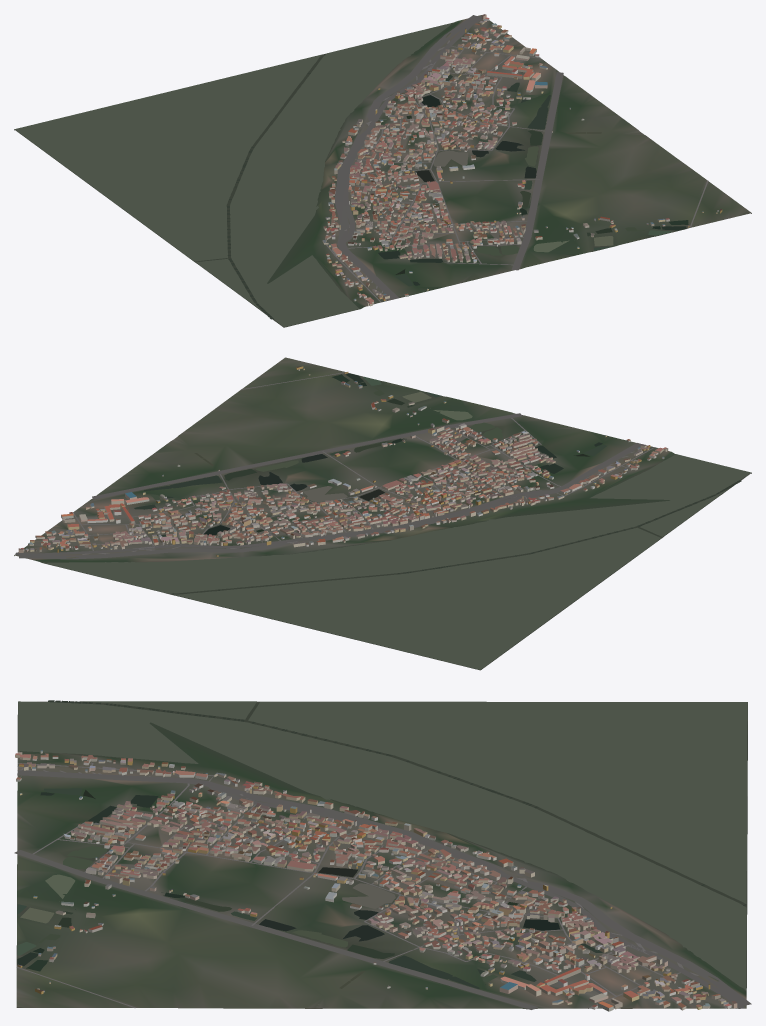
3 renders of one model, top to bottom at view 1: azimuth 30°, elevation 25°; view 2: azimuth 150°, elevation 25°; view 3: azimuth 270°, elevation 25°, orthographic. The views are drawn at different scales.
Parts seen in each view (by area): view 1: water, ground, buildings, roads; view 2: water, ground, buildings, roads; view 3: water, ground, buildings, roads.
Part boxes in pixels (x1,y1,x2,y2): water: (15,22,688,327); ground: (14,15,751,327); buildings: (322,14,722,306); roads: (326,15,708,302); water: (43,373,750,669); ground: (14,357,751,670); buildings: (18,366,668,556); roads: (15,372,654,559); water: (17,700,747,1007); ground: (16,701,747,1009); buildings: (15,750,737,1011); roads: (14,762,751,1009).
Bounding box in the file's own units: 1416 × 17.99 × 1417.
